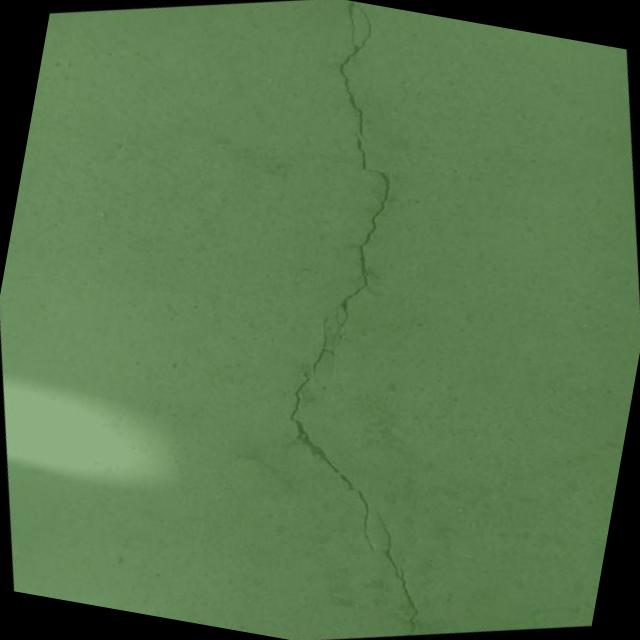crack: (172, 0, 501, 575), (354, 498, 443, 640)
